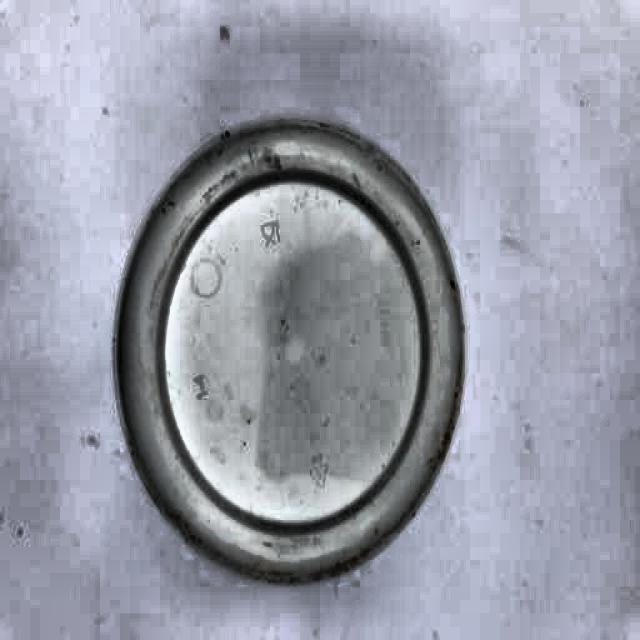plastic: (112, 115, 470, 584)
